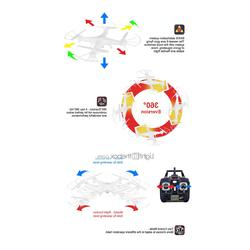drone: (64, 18, 145, 60), (67, 171, 151, 208)
